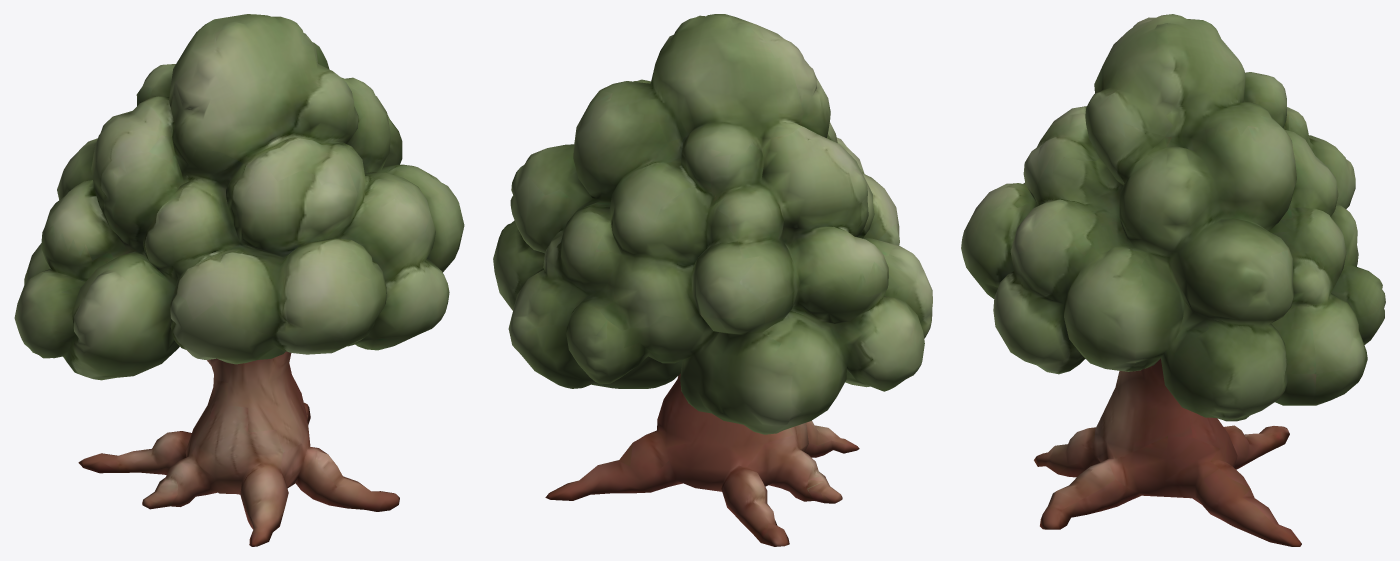
Rendered from nat_tree_a_v1.glb.
3 views of the same model, side by side, from view 1: azimuth 30°, elevation 25°; view 2: azimuth 150°, elevation 25°; view 3: azimuth 270°, elevation 25° (orthographic).
Parts seen in each view (by area): view 1: tripo_node_ea9002c6-35a8-475d-bf01-1b43660ca898; view 2: tripo_node_ea9002c6-35a8-475d-bf01-1b43660ca898; view 3: tripo_node_ea9002c6-35a8-475d-bf01-1b43660ca898.
Part boxes in pixels (bbox=[...]): tripo_node_ea9002c6-35a8-475d-bf01-1b43660ca898: bbox=[14, 14, 464, 546]; tripo_node_ea9002c6-35a8-475d-bf01-1b43660ca898: bbox=[493, 14, 932, 546]; tripo_node_ea9002c6-35a8-475d-bf01-1b43660ca898: bbox=[961, 14, 1385, 546].
Bounding box in the file's own units: 0.9316 × 0.998 × 0.8223.
Materials: 1 (1 with a texture image).
